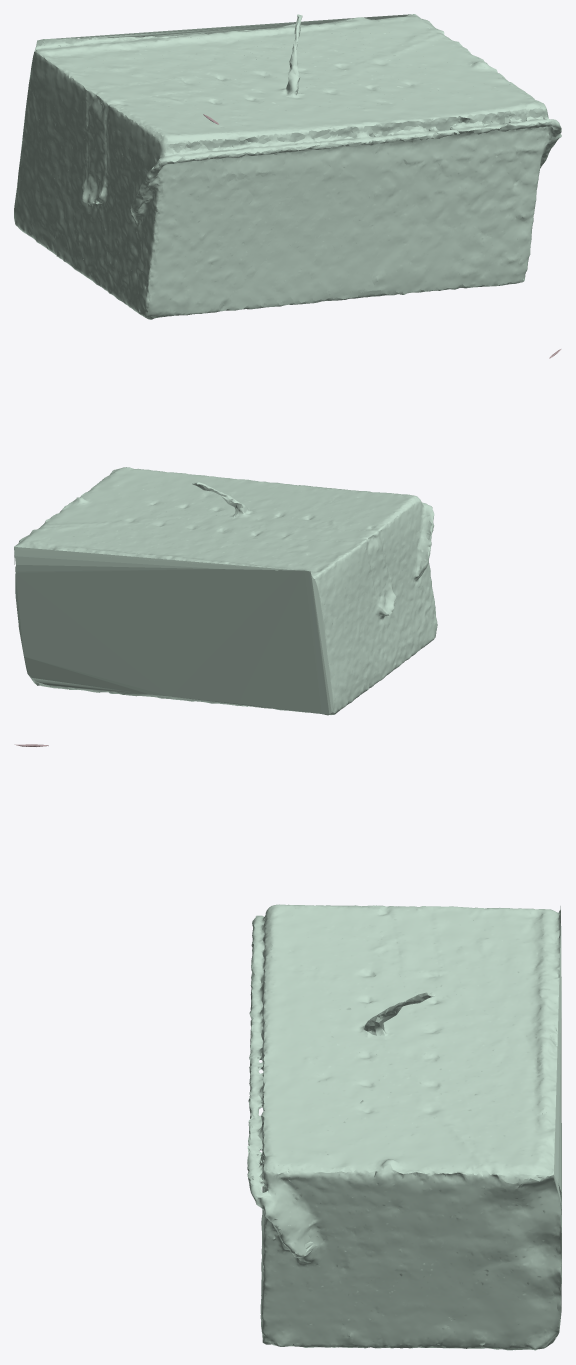
3 renders of one model, top to bottom at view 1: azimuth 30°, elevation 25°; view 2: azimuth 150°, elevation 25°; view 3: azimuth 270°, elevation 25°, orthographic. The views are drawn at different scales.
Visible parts, largest first — view 1: split_parent_0; view 2: split_parent_0; view 3: split_parent_0.
Part boxes in pixels (<box>): split_parent_0: <box>14,14,561,319</box>; split_parent_0: <box>14,467,437,715</box>; split_parent_0: <box>247,904,561,1350</box>.
Size of the model in its own units: 1 by 0.7574 by 0.9434.
